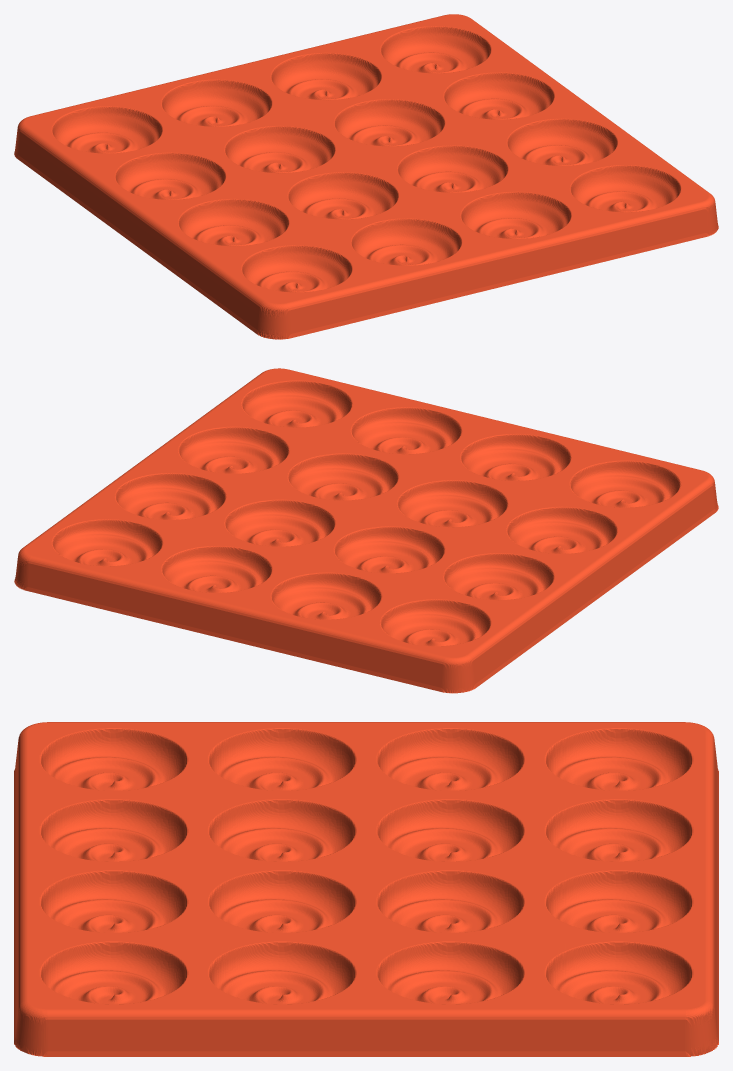
File: mold.glb
3 renders of one model, top to bottom at view 1: azimuth 30°, elevation 25°; view 2: azimuth 150°, elevation 25°; view 3: azimuth 270°, elevation 25°, orthographic. The views are drawn at different scales.
Parts seen in each view (by area): view 1: geometry_0; view 2: geometry_0; view 3: geometry_0.
Part boxes in pixels (x1,y1,x2,y2): geometry_0: (14,14,718,339); geometry_0: (14,368,718,693); geometry_0: (14,722,718,1056).
Bounding box in the file's own units: 0.1856 × 0.0121 × 0.1856.
